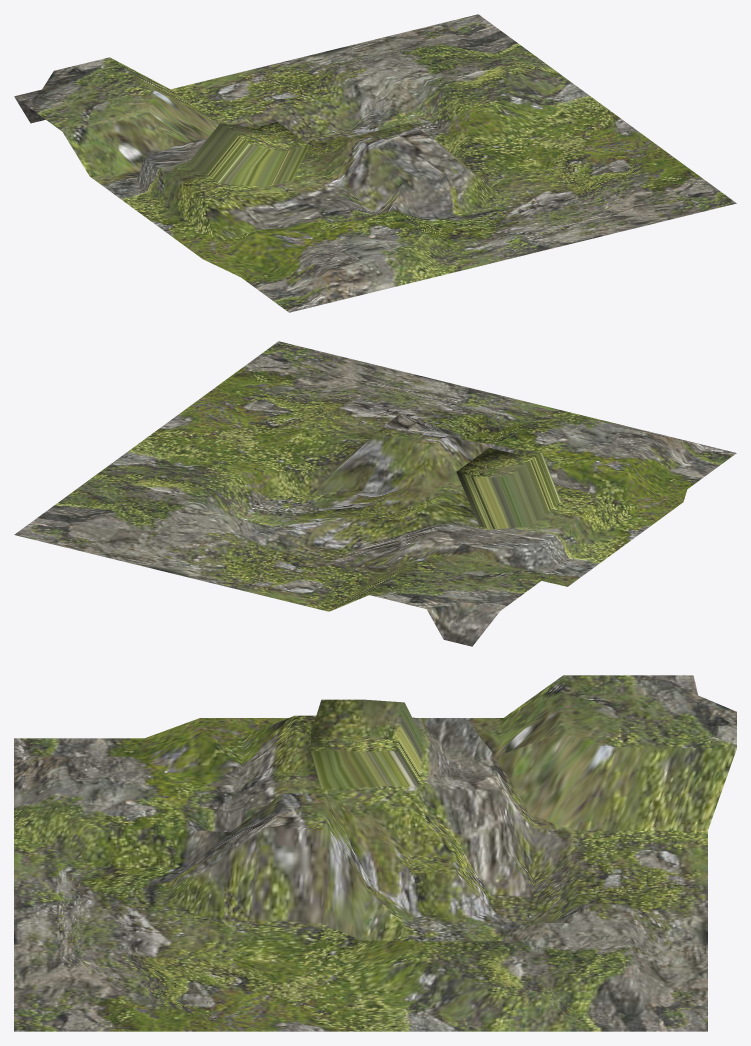
File: GroundModelNew.fbx
3 views of the same model, one above another, from view 1: azimuth 30°, elevation 25°; view 2: azimuth 150°, elevation 25°; view 3: azimuth 270°, elevation 25° (orthographic). The views are drawn at different scales.
Visible parts, largest first — view 1: Plane; view 2: Plane; view 3: Plane.
Part boxes in pixels (x1,y1,x2,y2): Plane: [14, 14, 736, 312]; Plane: [14, 341, 736, 646]; Plane: [14, 675, 736, 1031].
Bounding box in the file's own units: 1049 × 178 × 1042.
Materials: 1 (1 with a texture image).
